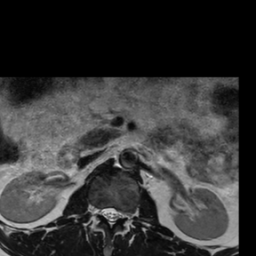CCS_normal: (108, 203, 114, 232)
LFS_normal: (120, 206, 126, 226)
LLS_normal: (114, 203, 120, 226)
RFS_normal: (95, 201, 102, 224)
RLS_normal: (101, 201, 108, 224)
